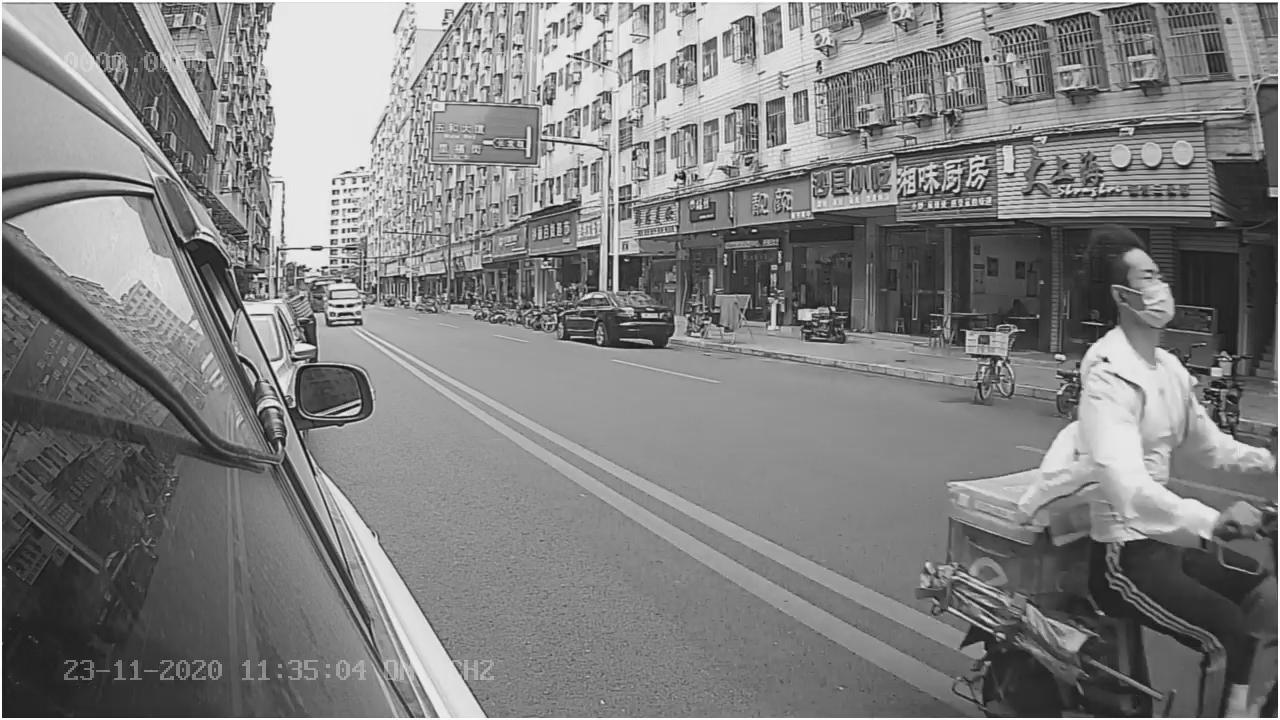person: (1063, 215, 1271, 530)
